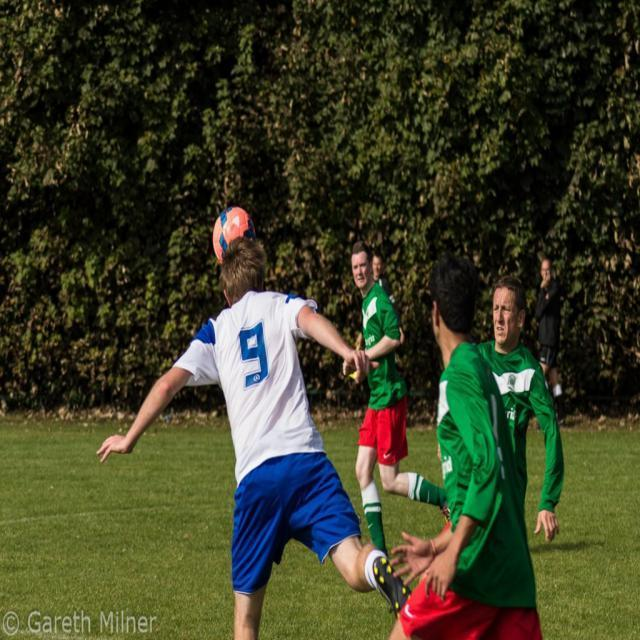football: (204, 196, 268, 270)
